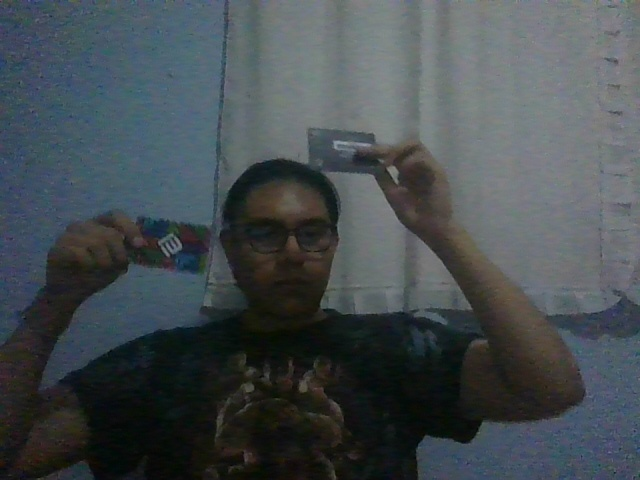tarjeta: (120, 213, 213, 276), (306, 126, 380, 176)
